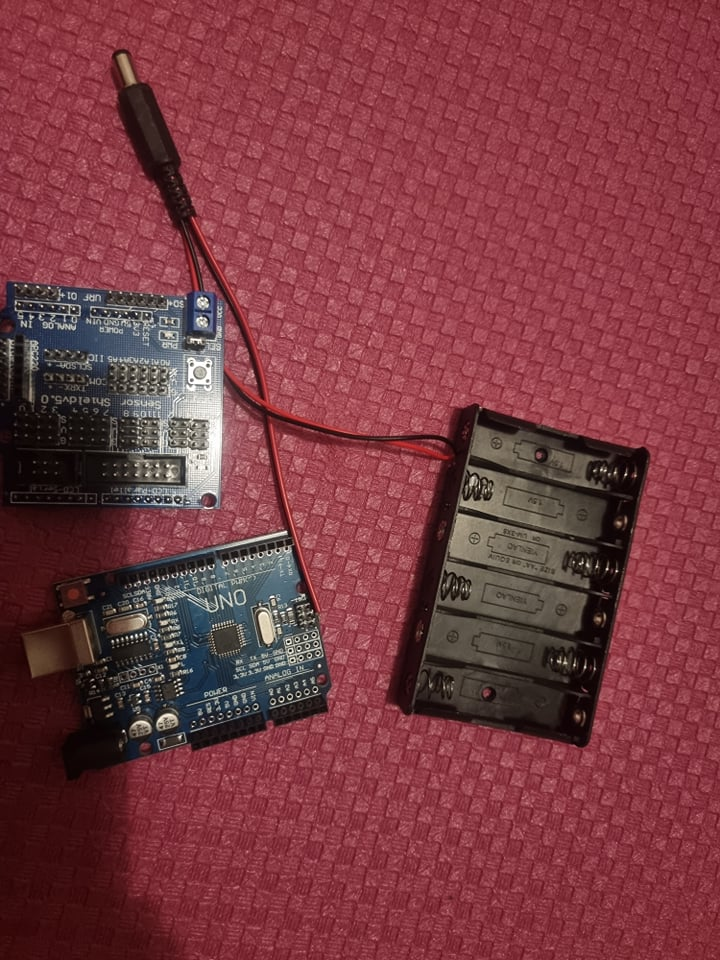5V EXPANSION: (3, 279, 222, 513)
BATTERY BOX: (389, 405, 655, 746)
UNO R3: (26, 529, 328, 776)
